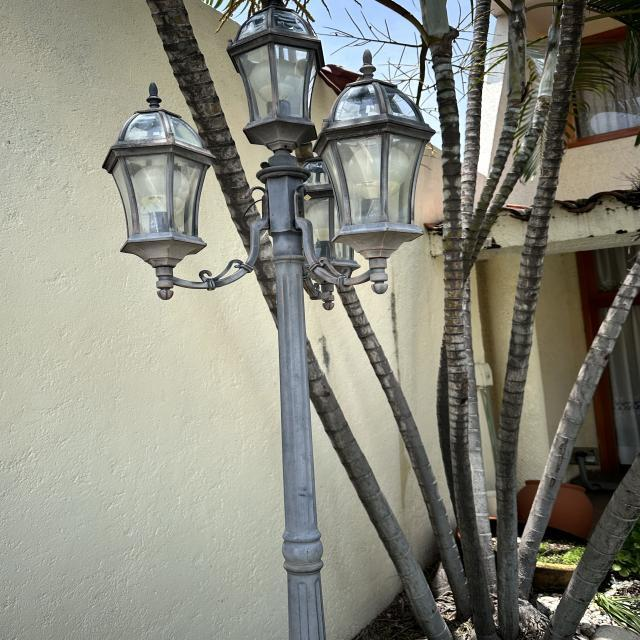hidden camera: (260, 162, 269, 168)
